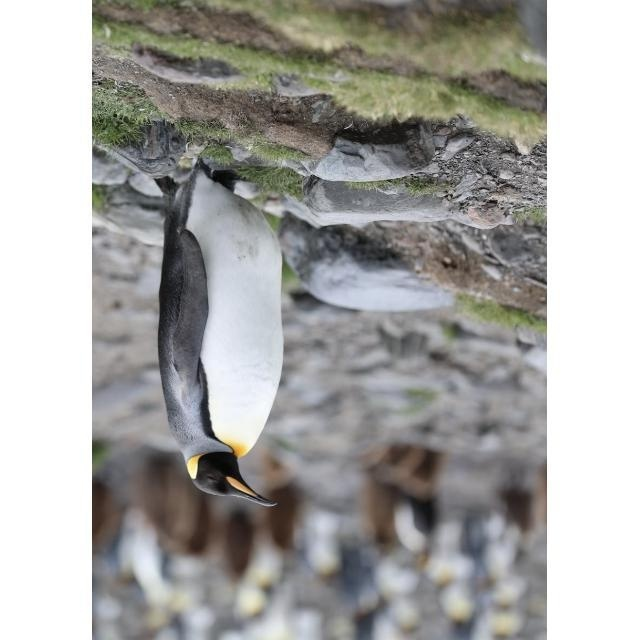penguin: (151, 141, 287, 507)
